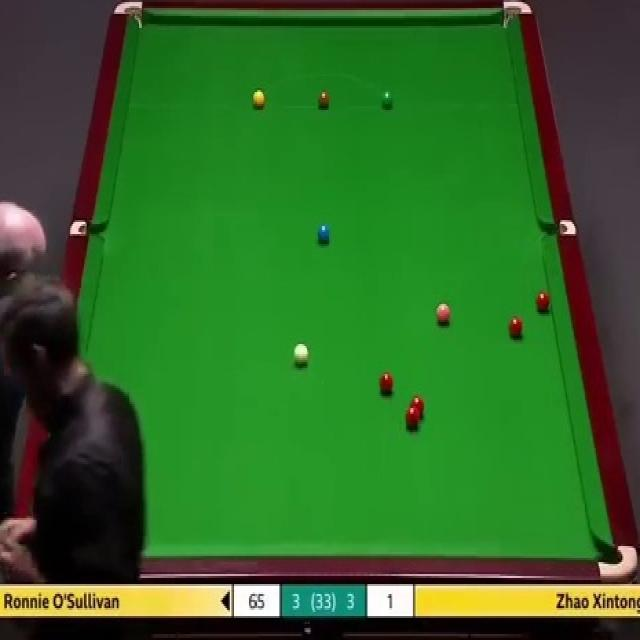pocket: (597, 540, 637, 583), (500, 0, 531, 32), (113, 0, 143, 28), (69, 220, 107, 237), (540, 220, 574, 235)
